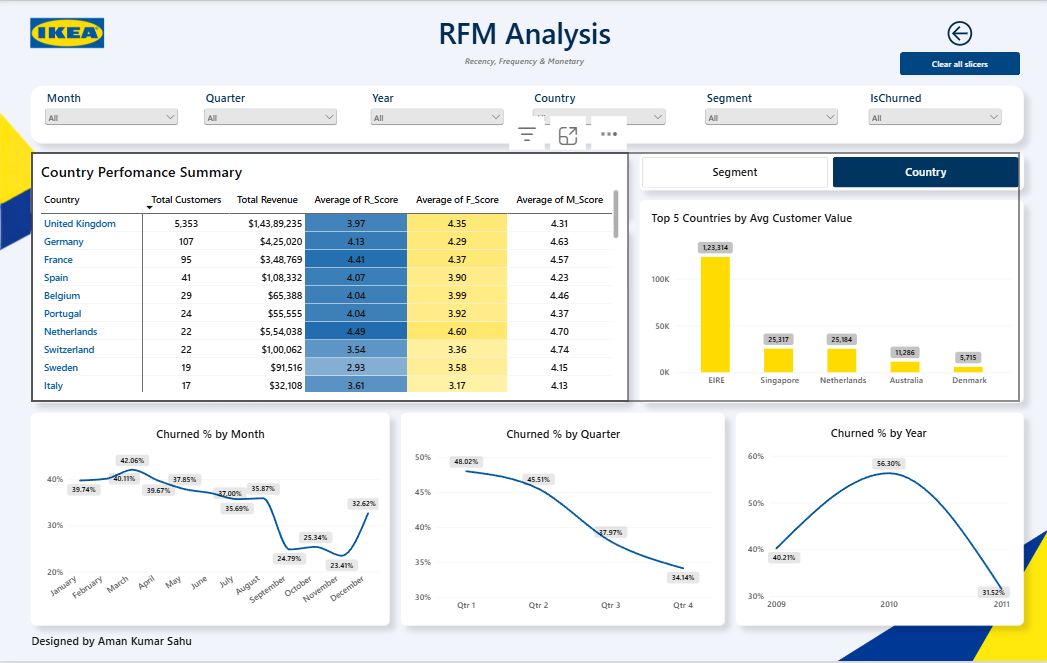

What the dashboard file says about the page in this screenshot:
{"tool":"powerbi","page":{"name":"RFM Analysis","canvas":[1750,1100],"ordinal":2},"visuals":[{"type":"slicer","fields":{"Values":["Sheet1.InvoiceDate.Variation.Date Hierarchy.Month"]},"box":[70.4,146.9,231.6,83.7],"z":0},{"type":"pivotTable","title":"Segment Perfomance Summary","fields":{"Rows":["Sheet1.Segment"],"Values":["Sheet1.Total Customers","Sheet1.Total Revenue","Avg(Sheet1.R_Score)","Avg(Sheet1.F_Score)","Avg(Sheet1.M_Score)"]},"box":[51.3,254,995.1,415.2],"z":0,"group":"g2"},{"type":"lineChart","title":"Churned % by Year","fields":{"Category":["Sheet1.InvoiceMonth.Variation.Date Hierarchy.Year"],"Y":["Sheet1.Churned Percentage"]},"box":[1230.8,691.3,469.2,343.3],"z":0,"group":"g1"},{"type":"slicer","fields":{"Values":["Sheet1.InvoiceDate.Variation.Date Hierarchy.Quarter"]},"box":[335.7,146.9,231.6,83.7],"z":1000},{"type":"clusteredColumnChart","title":"Segment by Avg Customer Value","fields":{"Category":["Sheet1.Segment"],"Y":["Sheet1.Avg Customer Value"]},"box":[1069.4,336.1,630.6,327.1],"z":1000,"group":"g2"},{"type":"lineChart","title":"Churned % by Quarter","fields":{"Category":["Sheet1.InvoiceMonth.Variation.Date Hierarchy.Quarter"],"Y":["Sheet1.Churned Percentage"]},"box":[675,692.7,527.8,342.8],"z":1000,"group":"g1"},{"type":"slicer","fields":{"Values":["Sheet1.InvoiceDate.Variation.Date Hierarchy.Year"]},"box":[612.2,146.9,231.6,83.7],"z":2000},{"type":"lineChart","title":"Churned % by Month","fields":{"Category":["Sheet1.InvoiceMonth.Variation.Date Hierarchy.Month"],"Y":["Sheet1.Churned Percentage"]},"box":[54.7,693,591.9,341.9],"z":2000,"group":"g1"},{"type":"slicer","fields":{"Values":["Sheet1.Country"]},"box":[882.7,146.9,231.6,83.7],"z":3000},{"type":"slicer","fields":{"Values":["Sheet1.Segment"]},"box":[1170,146.7,231.6,83.7],"z":4000},{"type":"slicer","fields":{"Values":["Sheet1.IsChurned"]},"box":[1442.9,146.9,231.6,83.7],"z":5000},{"type":"group","id":"g1","title":"Customer","box":[54.7,691.3,1645.3,344.2],"z":6000},{"type":"bookmarkNavigator","box":[1070.5,259.7,629.5,51.7],"z":8000},{"type":"textbox","box":[51.4,1053.6,592.9,36.4],"z":9000},{"type":"image","box":[0,0,224.4,106.7],"z":10000},{"type":"textbox","box":[578.3,20,593.3,102.2],"z":11000},{"type":"textbox","box":[578.3,88.9,593.3,33.3],"z":12000},{"type":"actionButton","box":[1500,17.1,200,72.6],"z":13000},{"type":"actionButton","box":[1500,83.8,200,39],"z":14000},{"type":"group","id":"g2","title":"Segment","box":[51.3,254,1648.7,415.2],"z":15000}]}

Visuals, with their boxes in screenshot pixels (x1, y1, x2, y2), scaled from the page's 1750x1100 canvas onto the 1047x663 screenshot:
slicer - Sheet1.InvoiceDate.Variation.Date Hierarchy.Month: [42,89,181,139]
"Segment Perfomance Summary" pivotTable: [31,153,626,403]
"Churned % by Year" lineChart: [736,417,1017,624]
slicer - Sheet1.InvoiceDate.Variation.Date Hierarchy.Quarter: [201,89,339,139]
"Segment by Avg Customer Value" clusteredColumnChart: [640,203,1017,400]
"Churned % by Quarter" lineChart: [404,418,720,624]
slicer - Sheet1.InvoiceDate.Variation.Date Hierarchy.Year: [366,89,505,139]
"Churned % by Month" lineChart: [33,418,387,624]
slicer - Sheet1.Country: [528,89,667,139]
slicer - Sheet1.Segment: [700,88,839,139]
slicer - Sheet1.IsChurned: [863,89,1002,139]
"Customer" group: [33,417,1017,624]
bookmarkNavigator: [640,157,1017,188]
textbox: [31,635,385,657]
image: [0,0,134,64]
textbox: [346,12,701,74]
textbox: [346,54,701,74]
actionButton: [897,10,1017,54]
actionButton: [897,51,1017,74]
"Segment" group: [31,153,1017,403]
